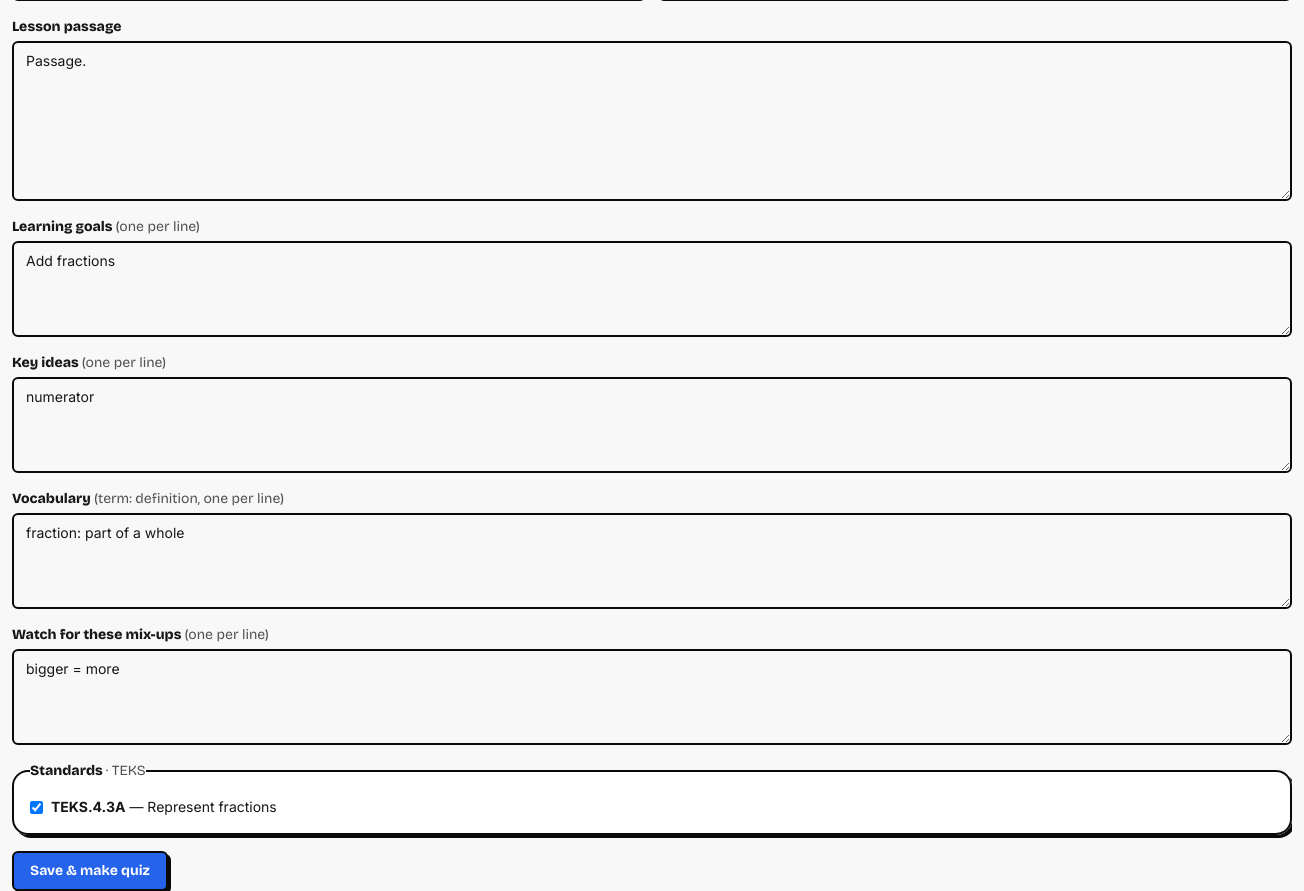
Test: LessonReviewEditor › shows a "building" done state with library links after success — teacher is freed immediately
(page scrolled)
Click the button "Save & make quiz": (90, 871) [12,851,168,890]
(page scrolled)
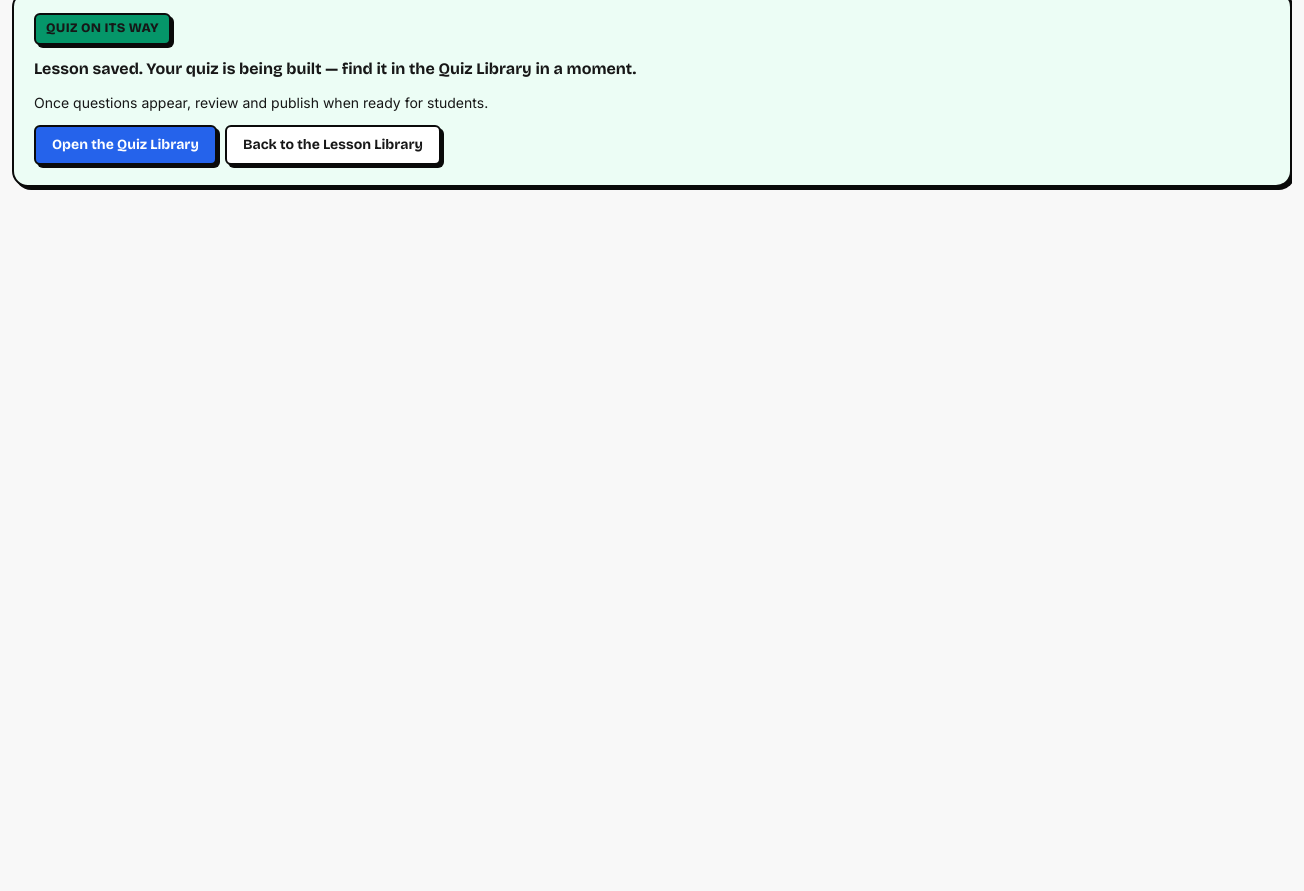
Check: the link "Open the Quiz Library" is shown, box [34,124,217,164]
Check: the text "being built" is shown, box [34,58,636,78]
